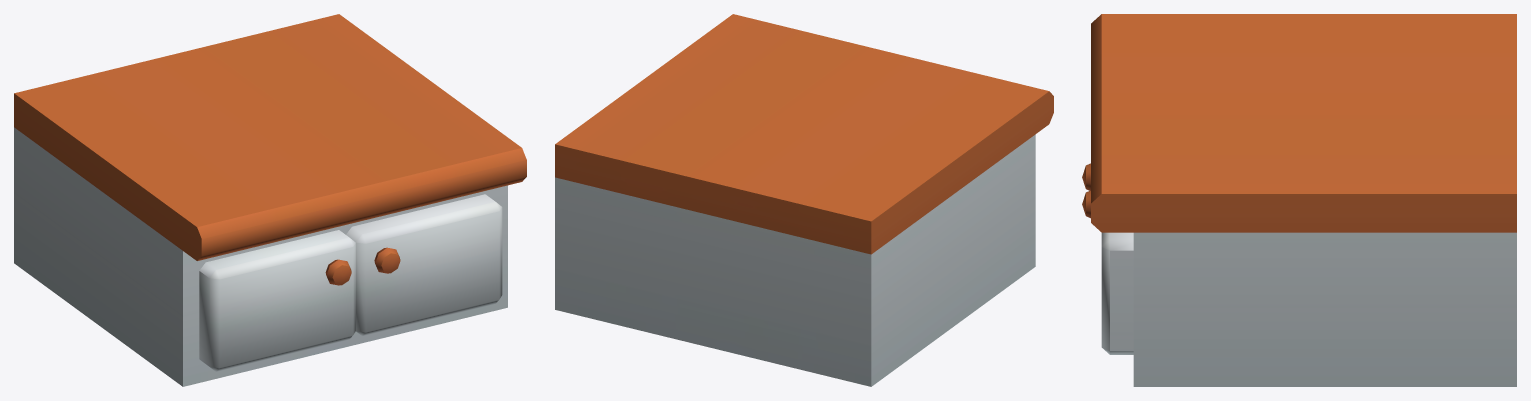
The model's file is kitchencounter-straight-b.glb.
3 views of the same model, side by side, from view 1: azimuth 30°, elevation 25°; view 2: azimuth 150°, elevation 25°; view 3: azimuth 270°, elevation 25° (orthographic). The views are drawn at different scales.
Visible parts, largest first — view 1: kitchencounter_straight_B; view 2: kitchencounter_straight_B; view 3: kitchencounter_straight_B.
Boxes of the visible parts, x1,y1,x2,y2 form: kitchencounter_straight_B: (14, 14, 526, 386); kitchencounter_straight_B: (555, 14, 1053, 386); kitchencounter_straight_B: (1082, 14, 1516, 386).
Size of the model in its own units: 2 by 0.9999 by 2.04.
1 material, 1 textured.
